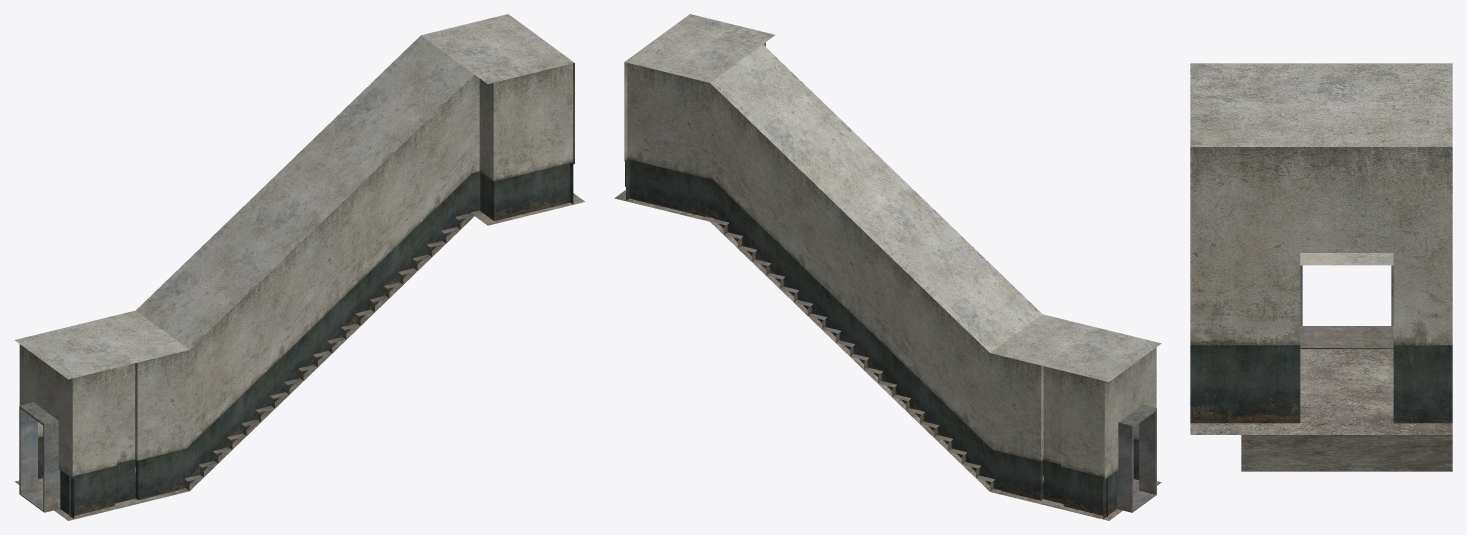
The picture shows the model from 3 angles, left to right: view 1: azimuth 30°, elevation 25°; view 2: azimuth 150°, elevation 25°; view 3: azimuth 270°, elevation 25°; orthographic projection. The views are drawn at different scales.
Parts seen in each view (by area): view 1: LOD_1_Group_0_Sub_4__st3_policeUndergroundWall010, LOD_1_Group_0_Sub_1__st3_policeUndergroundCeiling01, LOD_1_Group_0_Sub_5__st3_policeUndergroundDoor02, LOD_1_Group_0_Sub_2__st3_policeUndergroundFloor09, LOD_1_Group_0_Sub_3__st2_police1fRightStairs03; view 2: LOD_1_Group_0_Sub_4__st3_policeUndergroundWall010, LOD_1_Group_0_Sub_1__st3_policeUndergroundCeiling01, LOD_1_Group_0_Sub_5__st3_policeUndergroundDoor02, LOD_1_Group_0_Sub_2__st3_policeUndergroundFloor09, LOD_1_Group_0_Sub_3__st2_police1fRightStairs03; view 3: LOD_1_Group_0_Sub_4__st3_policeUndergroundWall010, LOD_1_Group_0_Sub_1__st3_policeUndergroundCeiling01, LOD_1_Group_0_Sub_2__st3_policeUndergroundFloor09, LOD_1_Group_0_Sub_3__st2_police1fRightStairs03, LOD_1_Group_0_Sub_5__st3_policeUndergroundDoor02.
Boxes of the visible parts, x1=… form: LOD_1_Group_0_Sub_4__st3_policeUndergroundWall010: x1=19, y1=63, x2=574, y2=518; LOD_1_Group_0_Sub_1__st3_policeUndergroundCeiling01: x1=15, y1=14, x2=574, y2=379; LOD_1_Group_0_Sub_5__st3_policeUndergroundDoor02: x1=19, y1=402, x2=60, y2=512; LOD_1_Group_0_Sub_2__st3_policeUndergroundFloor09: x1=14, y1=193, x2=585, y2=520; LOD_1_Group_0_Sub_3__st2_police1fRightStairs03: x1=178, y1=210, x2=482, y2=492; LOD_1_Group_0_Sub_4__st3_policeUndergroundWall010: x1=624, y1=42, x2=1156, y2=518; LOD_1_Group_0_Sub_1__st3_policeUndergroundCeiling01: x1=625, y1=14, x2=1161, y2=381; LOD_1_Group_0_Sub_5__st3_policeUndergroundDoor02: x1=1117, y1=404, x2=1156, y2=512; LOD_1_Group_0_Sub_2__st3_policeUndergroundFloor09: x1=614, y1=190, x2=1161, y2=520; LOD_1_Group_0_Sub_3__st2_police1fRightStairs03: x1=702, y1=216, x2=1001, y2=493; LOD_1_Group_0_Sub_4__st3_policeUndergroundWall010: x1=1190, y1=147, x2=1452, y2=423; LOD_1_Group_0_Sub_1__st3_policeUndergroundCeiling01: x1=1190, y1=63, x2=1452, y2=146; LOD_1_Group_0_Sub_2__st3_policeUndergroundFloor09: x1=1190, y1=349, x2=1452, y2=471; LOD_1_Group_0_Sub_3__st2_police1fRightStairs03: x1=1300, y1=326, x2=1393, y2=349; LOD_1_Group_0_Sub_5__st3_policeUndergroundDoor02: x1=1300, y1=265, x2=1393, y2=325.
Bounding box in the file's own units: 13.22 × 8.47 × 2.96.
